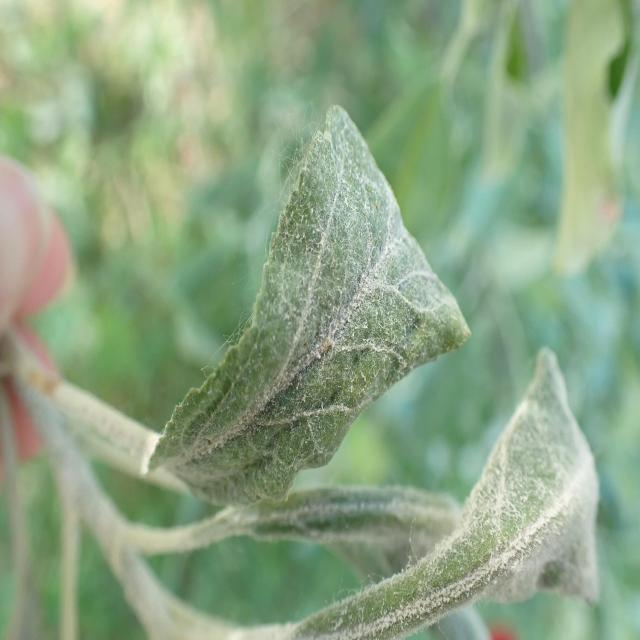Powdery_mildew: (162, 90, 479, 509), (199, 344, 634, 640), (184, 473, 461, 564)
